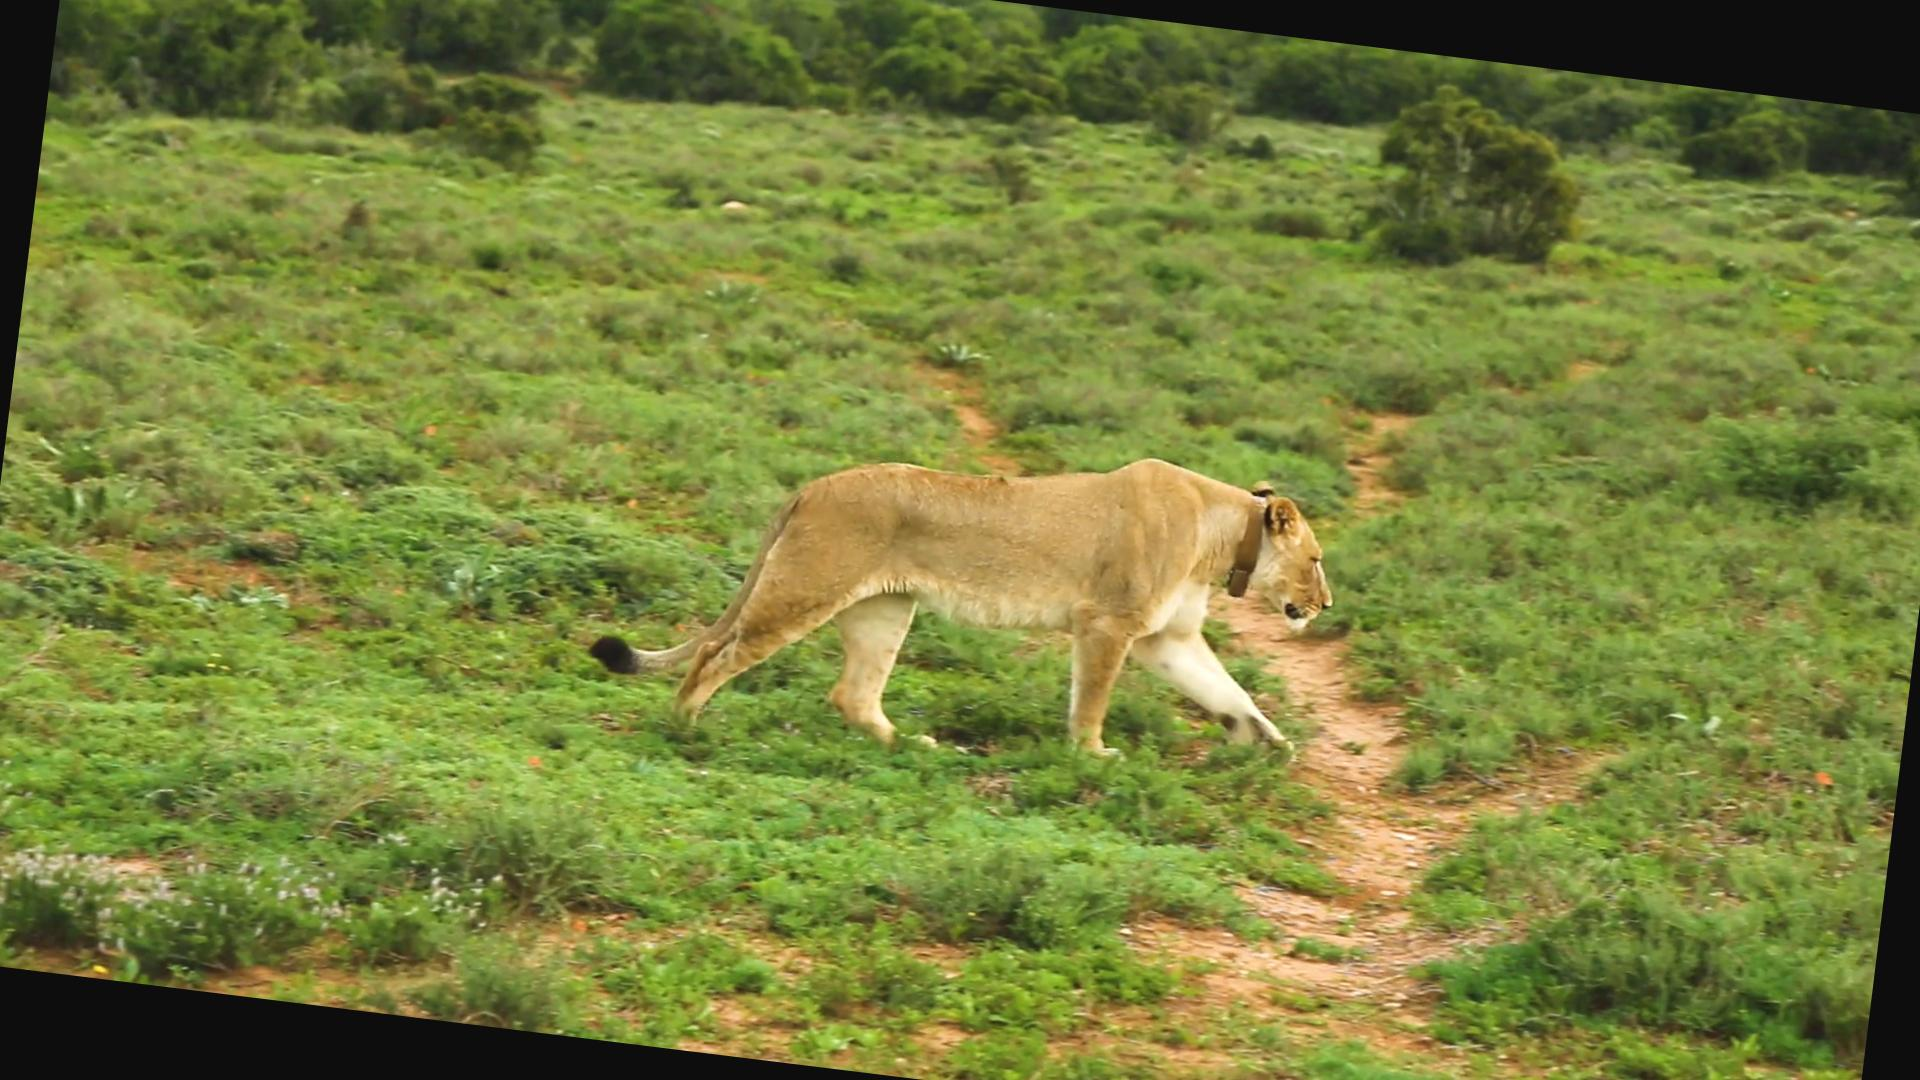lions: (585, 359, 1370, 823)
